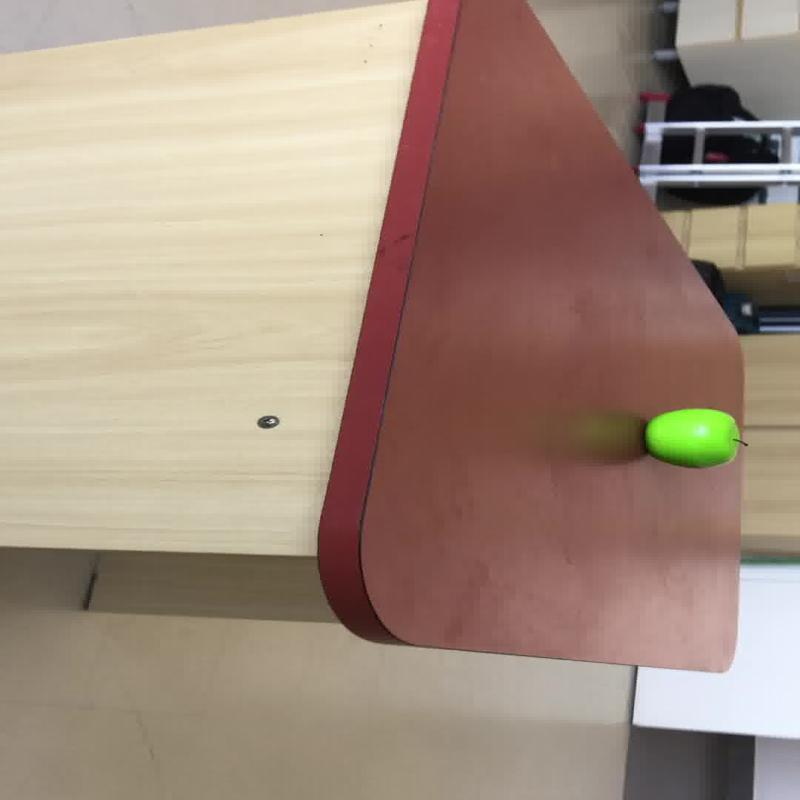apple: (642, 407, 742, 468)
